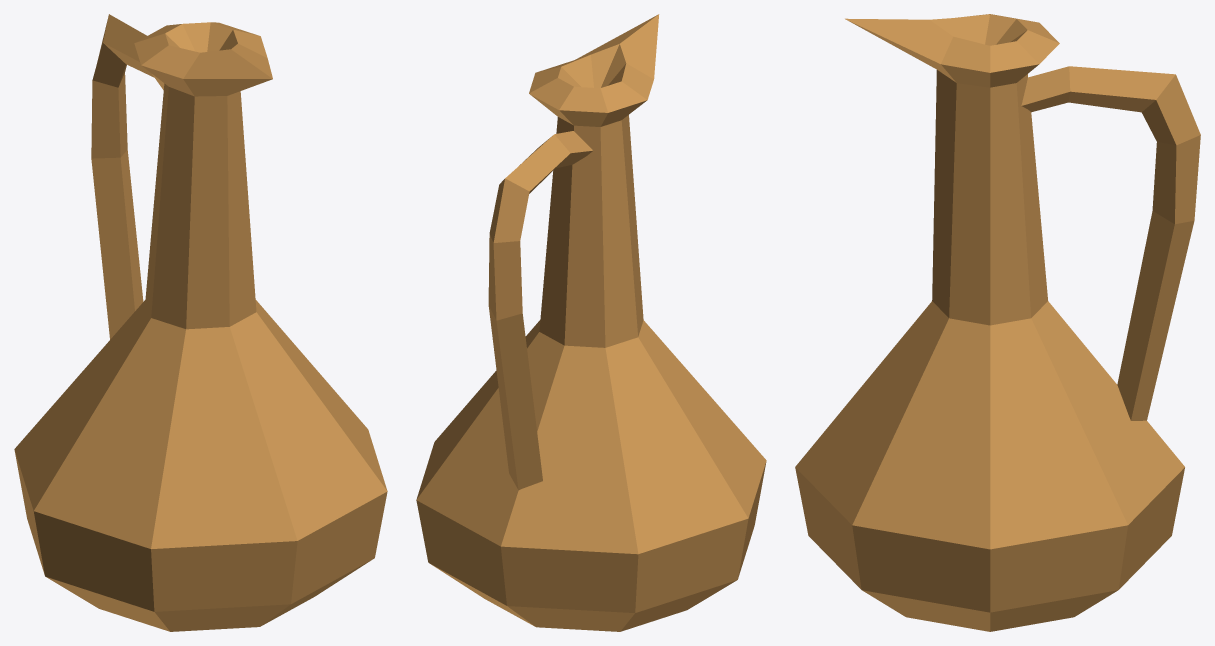
File: SM_Prop_Gold_Teapot_04.fbx
3 renders of one model, left to right at view 1: azimuth 30°, elevation 25°; view 2: azimuth 150°, elevation 25°; view 3: azimuth 270°, elevation 25°, orthographic. The views are drawn at different scales.
Visible parts, largest first — view 1: SM_Prop_Gold_Teapot_04; view 2: SM_Prop_Gold_Teapot_04; view 3: SM_Prop_Gold_Teapot_04.
Part boxes in pixels (<box>): SM_Prop_Gold_Teapot_04: <box>14,14,387,631</box>; SM_Prop_Gold_Teapot_04: <box>416,14,766,631</box>; SM_Prop_Gold_Teapot_04: <box>795,14,1200,631</box>.
Bounding box in the file's own units: 28.71 × 45.71 × 29.86.
